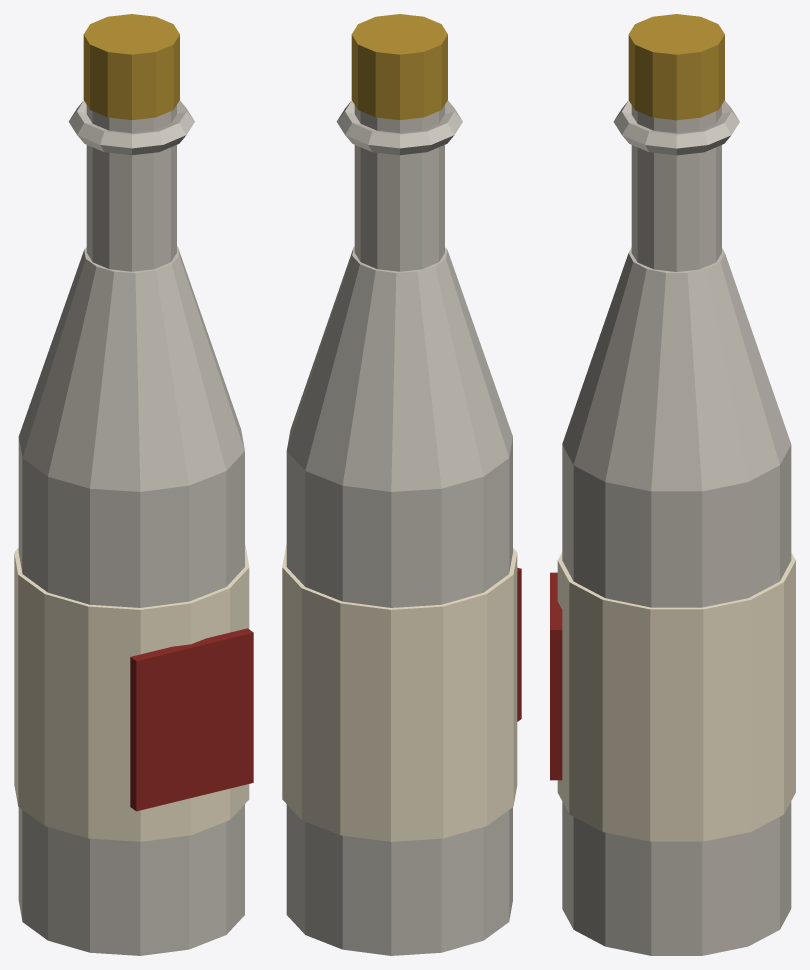
File: bottle.glb
3 renders of one model, left to right at view 1: azimuth 30°, elevation 25°; view 2: azimuth 150°, elevation 25°; view 3: azimuth 270°, elevation 25°, orthographic.
Parts seen in each view (by area): view 1: bottle; view 2: bottle; view 3: bottle.
Boxes of the visible parts, left/top/right/bottom form: bottle: left=14, top=14, right=253, bottom=955; bottle: left=282, top=14, right=521, bottom=955; bottle: left=550, top=14, right=795, bottom=955.
Bounding box in the file's own units: 0.077 × 0.32 × 0.0815.
